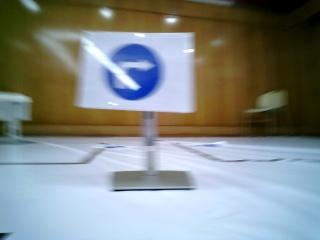right: (89, 32, 195, 113)
